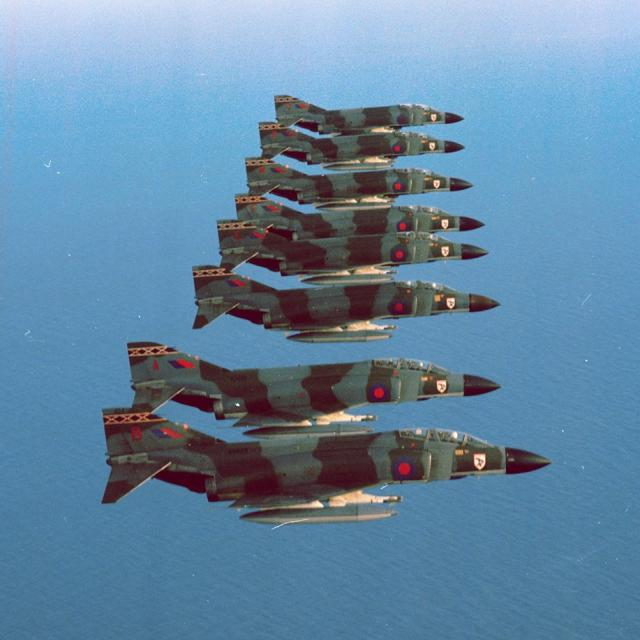MIL_Plane: (100, 418, 555, 514), (126, 341, 505, 439), (190, 263, 502, 344), (215, 218, 491, 285), (243, 156, 474, 211), (234, 192, 487, 240), (258, 122, 466, 172), (273, 45, 465, 89)
